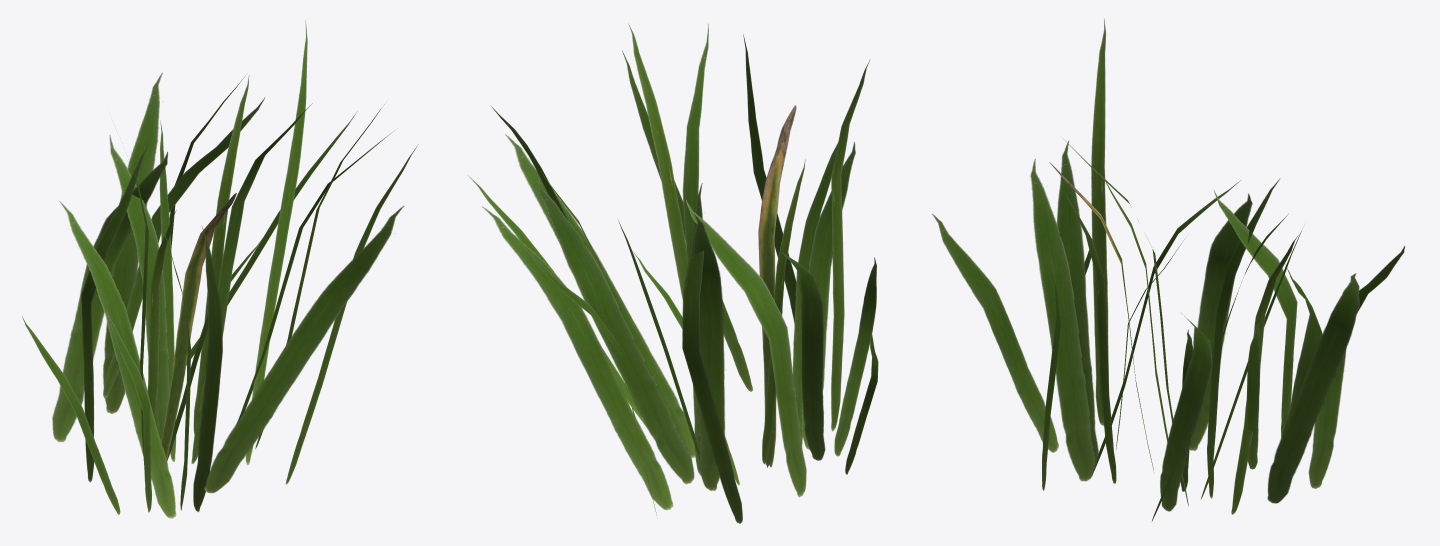
The model's file is grass_foliage_four.glb.
3 renders of one model, left to right at view 1: azimuth 30°, elevation 25°; view 2: azimuth 150°, elevation 25°; view 3: azimuth 270°, elevation 25°, orthographic.
Visible parts, largest first — view 1: Object_3.011, Object_3.020, Object_3.013, Object_3.008, Object_3.006, Object_3, Object_3.017, Object_3.012, Object_3.001, Object_3.022, Object_3.019, Object_3.009 (+11 smaller); view 2: Object_3.009, Object_3.016, Object_3.001, Object_3.006, Object_3.013, Object_3.020, Object_3.023, Object_3.012, Object_3.018, Object_3.021, Object_3.019, Object_3.005 (+11 smaller); view 3: Object_3, Object_3.016, Object_3.011, Object_3.018, Object_3.005, Object_3.023, Object_3.001, Object_3.013, Object_3.008, Object_3.006, Object_3.021, Object_3.022 (+8 smaller).
Boxes of the visible parts, x1=… form: Object_3.011: x1=204, y1=206, x2=404, y2=493; Object_3.020: x1=59, y1=201, x2=176, y2=518; Object_3.013: x1=52, y1=152, x2=167, y2=441; Object_3.008: x1=103, y1=72, x2=162, y2=413; Object_3.006: x1=109, y1=135, x2=169, y2=440; Object_3: x1=193, y1=225, x2=222, y2=511; Object_3.017: x1=246, y1=20, x2=307, y2=465; Object_3.012: x1=161, y1=193, x2=236, y2=460; Object_3.001: x1=81, y1=144, x2=149, y2=482; Object_3.022: x1=193, y1=75, x2=249, y2=434; Object_3.019: x1=191, y1=103, x2=312, y2=463; Object_3.009: x1=103, y1=97, x2=265, y2=398; Object_3.009: x1=538, y1=177, x2=694, y2=484; Object_3.016: x1=482, y1=206, x2=673, y2=510; Object_3.001: x1=686, y1=200, x2=806, y2=497; Object_3.006: x1=693, y1=214, x2=724, y2=490; Object_3.013: x1=682, y1=183, x2=742, y2=523; Object_3.020: x1=782, y1=252, x2=825, y2=460; Object_3.023: x1=831, y1=59, x2=870, y2=431; Object_3.012: x1=758, y1=105, x2=796, y2=467; Object_3.018: x1=505, y1=134, x2=695, y2=457; Object_3.021: x1=628, y1=23, x2=687, y2=299; Object_3.019: x1=682, y1=23, x2=708, y2=475; Object_3.005: x1=801, y1=142, x2=855, y2=449; Object_3: x1=1030, y1=159, x2=1095, y2=481; Object_3.016: x1=1267, y1=273, x2=1360, y2=503; Object_3.011: x1=932, y1=214, x2=1058, y2=452; Object_3.018: x1=1160, y1=313, x2=1212, y2=511; Object_3.005: x1=1057, y1=140, x2=1098, y2=468; Object_3.023: x1=1091, y1=18, x2=1108, y2=425; Object_3.001: x1=1189, y1=193, x2=1252, y2=450; Object_3.013: x1=1213, y1=189, x2=1297, y2=438; Object_3.008: x1=1308, y1=246, x2=1404, y2=488; Object_3.006: x1=1207, y1=178, x2=1280, y2=498; Object_3.021: x1=1065, y1=192, x2=1116, y2=483; Object_3.022: x1=1231, y1=235, x2=1298, y2=514.
Bounding box in the file's own units: 1.76 × 1.87 × 1.94.
Materials: 1 (1 with a texture image).
